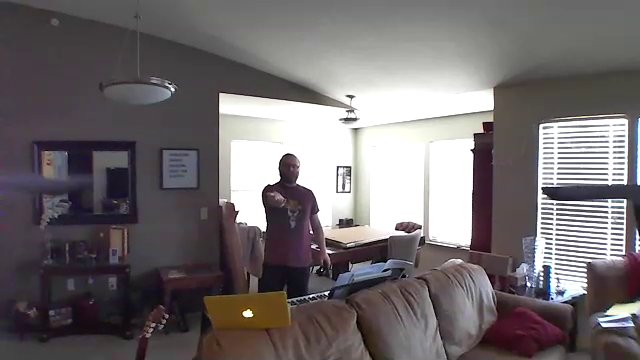land: (263, 190, 295, 210)
